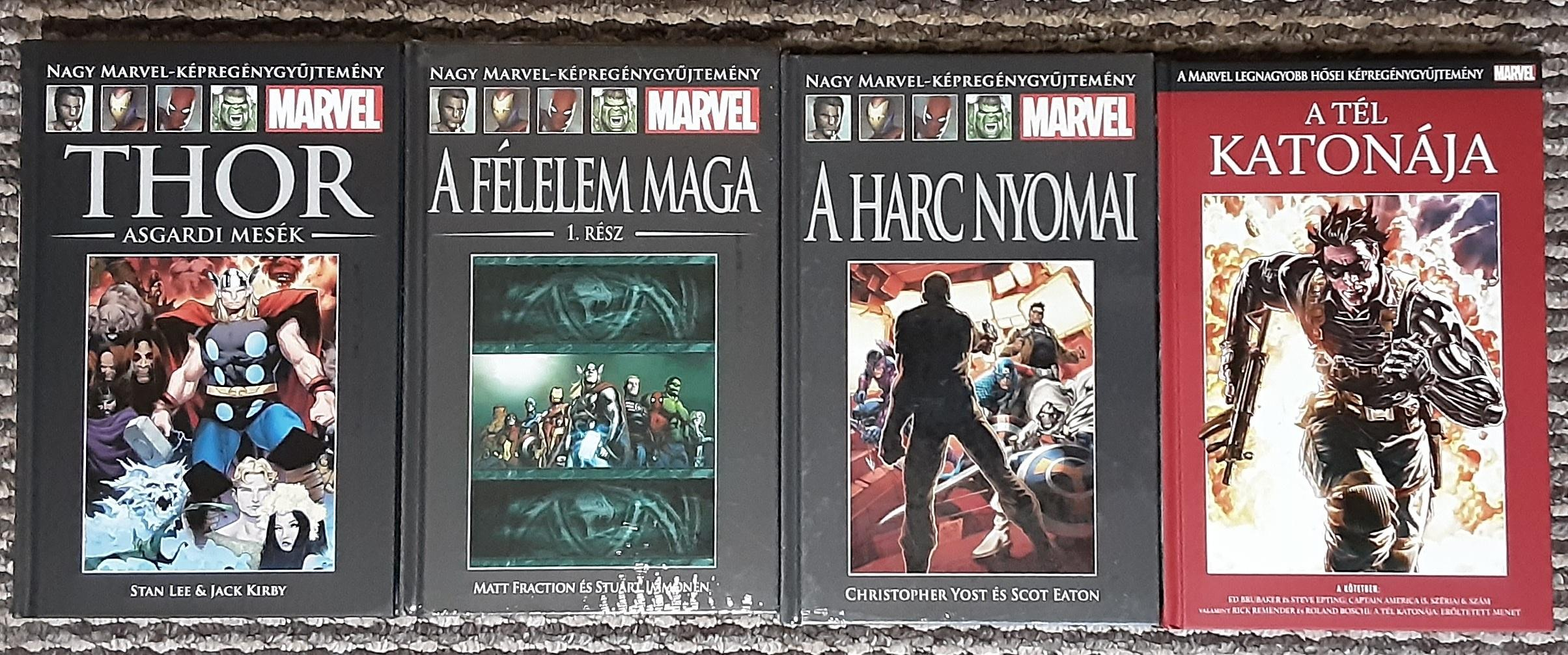comic: (14, 40, 404, 620), (1159, 59, 1552, 633), (403, 44, 783, 615), (780, 54, 1159, 625)
